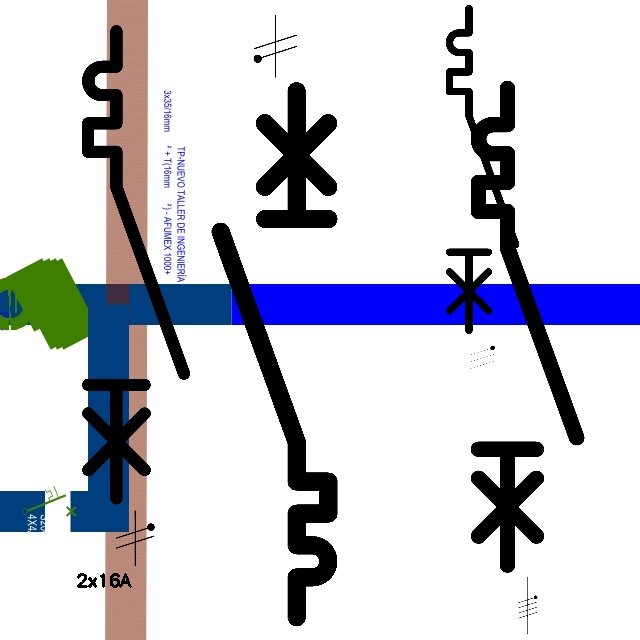interruptor_termomagnetico: (207, 77, 342, 630), (466, 76, 588, 577), (76, 19, 196, 511), (441, 0, 523, 338)
